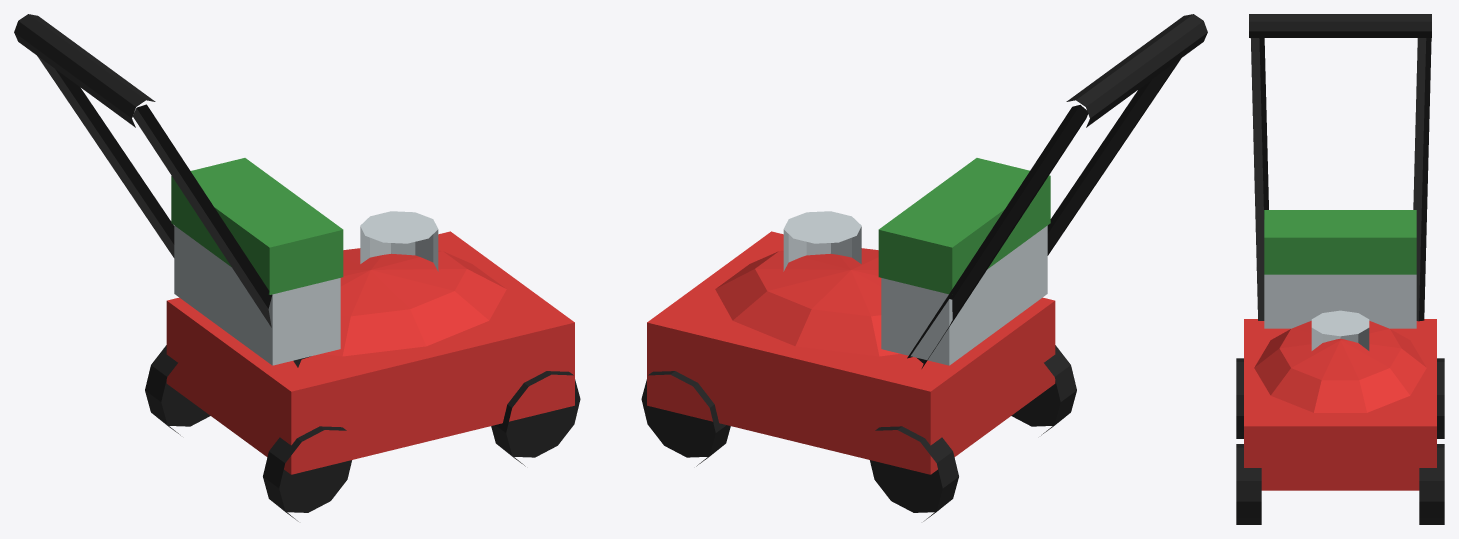
Rendered from grasklippare.glb.
The picture shows the model from 3 angles, left to right: view 1: azimuth 30°, elevation 25°; view 2: azimuth 150°, elevation 25°; view 3: azimuth 270°, elevation 25°; orthographic projection. The views are drawn at different scales.
Visible parts, largest first — view 1: grasklippare; view 2: grasklippare; view 3: grasklippare.
Boxes of the visible parts, left/top/right/bottom form: grasklippare: left=14, top=14, right=580, bottom=521; grasklippare: left=641, top=14, right=1207, bottom=521; grasklippare: left=1236, top=14, right=1444, bottom=524.
Bounding box in the file's own units: 0.805 × 0.775 × 0.41.
